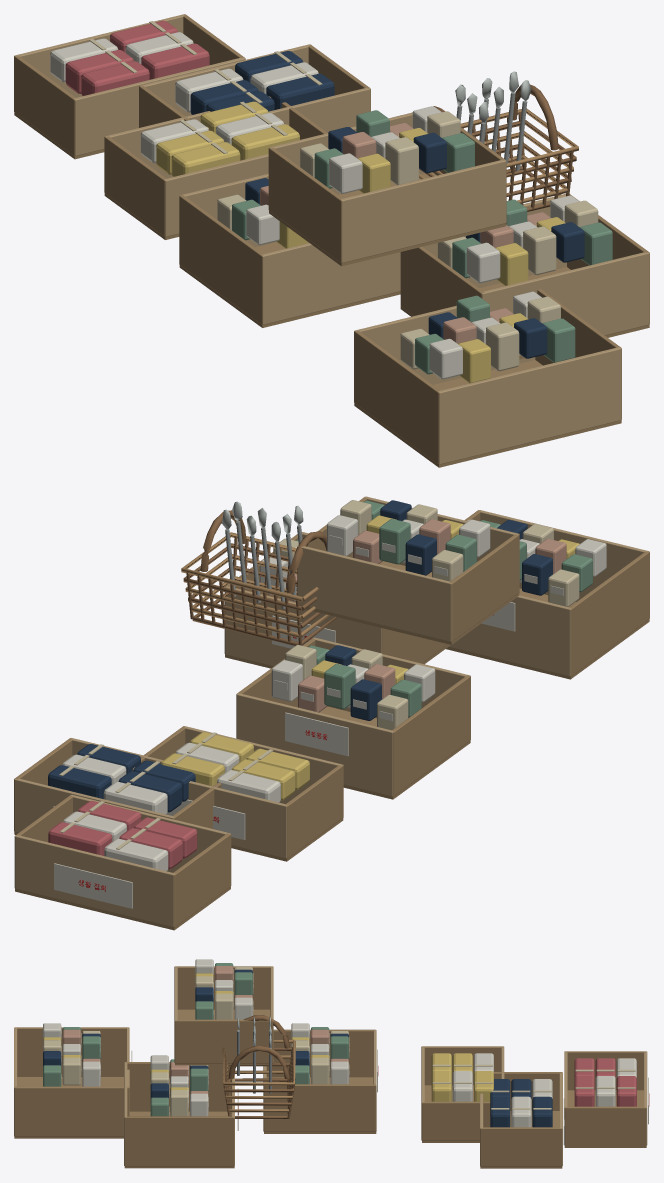
The model's file is bins.glb.
3 views of the same model, one above another, from view 1: azimuth 30°, elevation 25°; view 2: azimuth 150°, elevation 25°; view 3: azimuth 270°, elevation 25° (orthographic). The views are drawn at different scales.
Visible parts, largest first — view 1: West_bins; view 2: West_bins; view 3: West_bins.
Part boxes in pixels (bbox=[...]): West_bins: bbox=[14, 14, 649, 467]; West_bins: bbox=[14, 496, 649, 930]; West_bins: bbox=[14, 959, 649, 1168].
Bounding box in the file's own units: 0.9841 × 0.6459 × 2.72.
